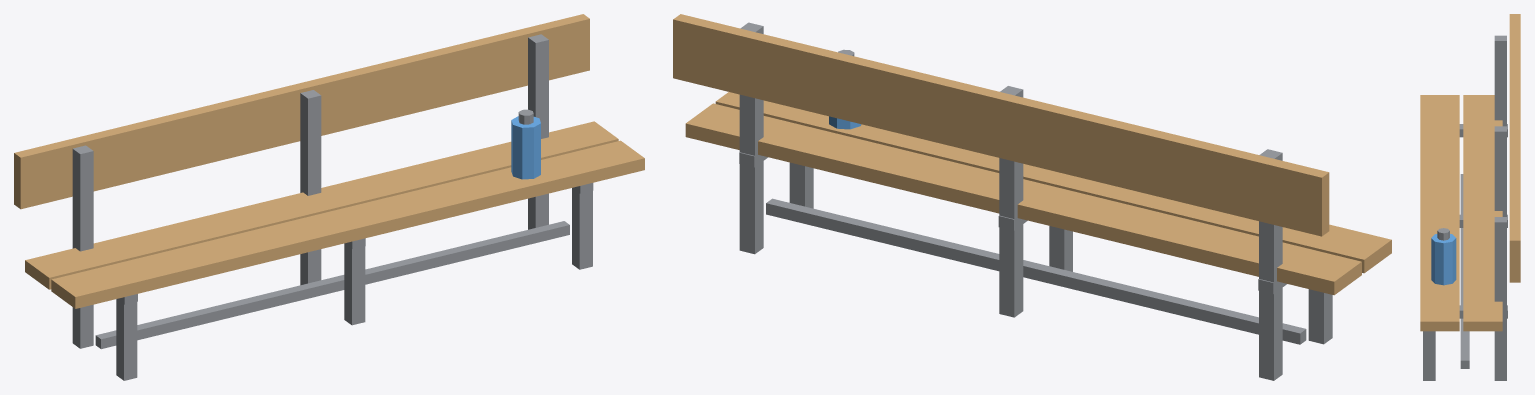
File: bench.glb
The picture shows the model from 3 angles, left to right: view 1: azimuth 30°, elevation 25°; view 2: azimuth 150°, elevation 25°; view 3: azimuth 270°, elevation 25°; orthographic projection. The views are drawn at different scales.
Visible parts, largest first — view 1: bench; view 2: bench; view 3: bench.
Boxes of the visible parts, x1,y1,x2,y2 form: bench: (14,14,644,380); bench: (673,14,1391,380); bench: (1420,14,1520,380).
Size of the model in its own units: 3 by 0.99 by 0.56.
